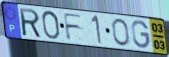1: (90, 15, 103, 45)
F: (62, 12, 84, 41)
G: (131, 19, 151, 50)
O: (40, 10, 61, 41), (111, 18, 131, 48)
R: (18, 7, 43, 39)
